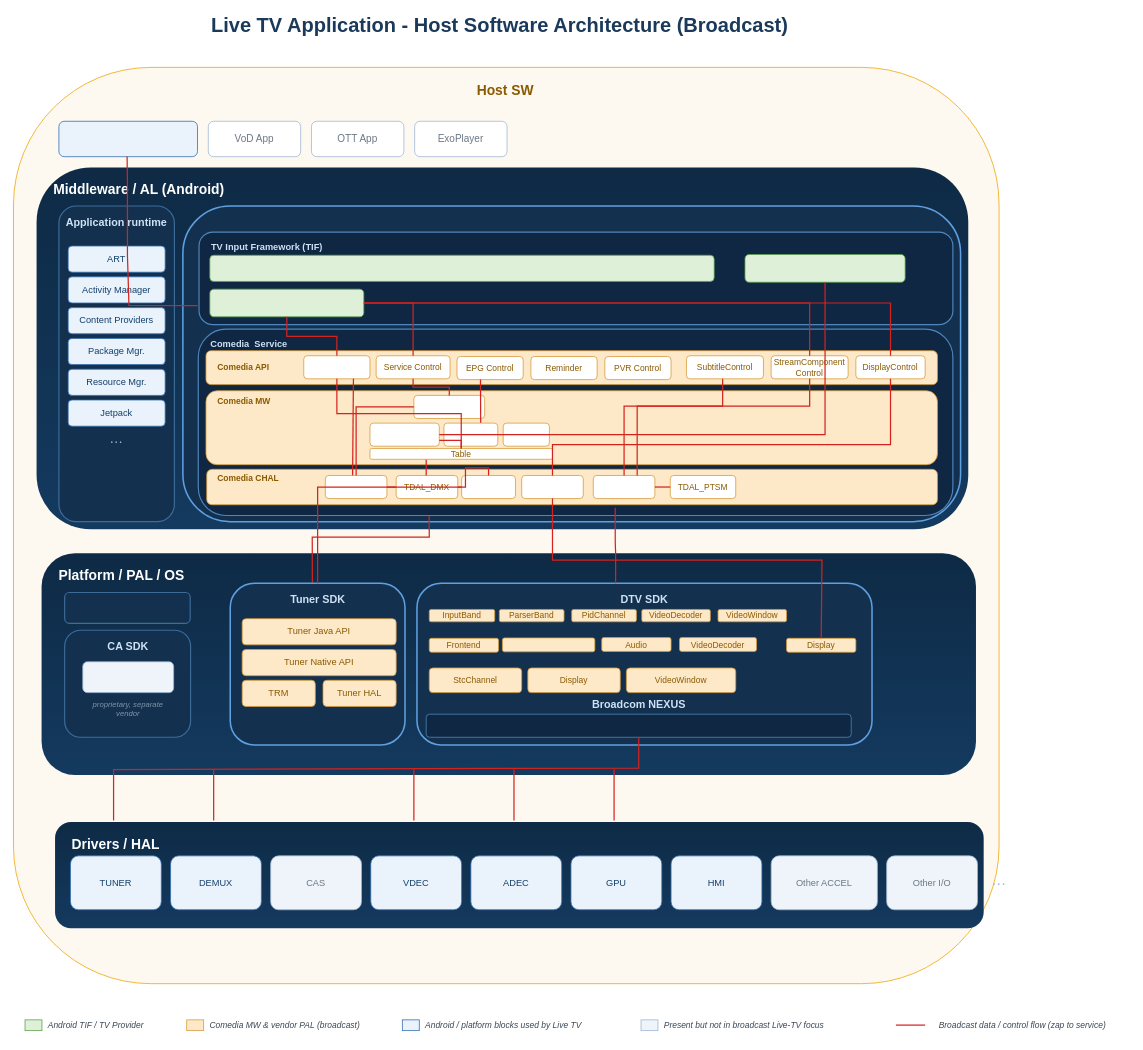
The diagram is 1143 pixels wide and 1050 high, and some of its shapes have lost their labels. Here are the shapes that lost their labels. From the top down, the centre of each, then its label:
At [128,139]: "Live TV App".
At [461,267]: "TV Input Manager".
At [824,268]: "TV Provider".
At [286,302]: "Broadcast TV Input (TIS)".
At [336,367]: "Scan Control".
At [449,406]: "Route / XSERV".
At [404,434]: "SList + PIDB".
At [470,434]: "EIM".
At [525,434]: "DSM-CC".
At [356,487]: "TDAL_DMD".
At [488,487]: "TDAL_AV".
At [552,487]: "TDAL_DISP".
At [624,487]: "TDAL_GFX".
At [127,608]: "OS / Common libs".
At [548,644]: "Transport".
At [128,677]: "CAS SDK".
At [638,725]: "Broadcom Magnum (lower vendor layer)".
